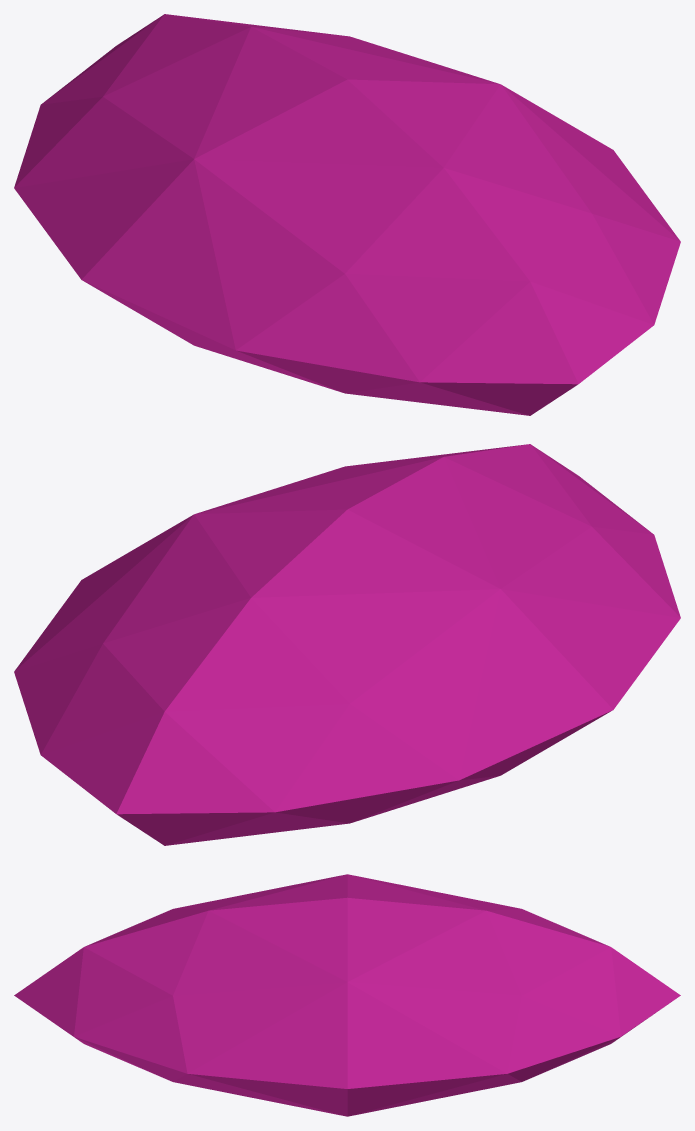
File: crystal0.fbx
The picture shows the model from 3 angles, top to bottom: view 1: azimuth 30°, elevation 25°; view 2: azimuth 150°, elevation 25°; view 3: azimuth 270°, elevation 25°; orthographic projection. The views are drawn at different scales.
Visible parts, largest first — view 1: Cube; view 2: Cube; view 3: Cube.
Boxes of the visible parts, left/top/right/bottom form: Cube: left=14, top=14, right=680, bottom=415; Cube: left=14, top=444, right=680, bottom=845; Cube: left=14, top=874, right=680, bottom=1116.
Size of the model in its own units: 4.65 by 2.26 by 7.
